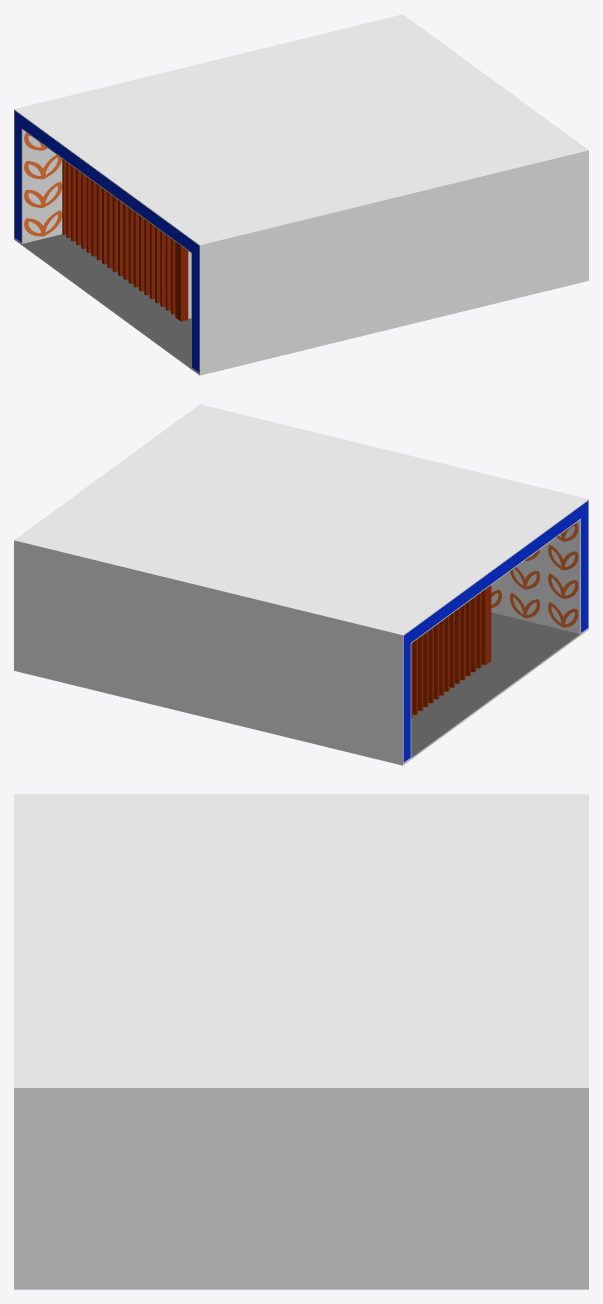
Rendered from Room01 - CFS.fbx.
The picture shows the model from 3 angles, top to bottom: view 1: azimuth 30°, elevation 25°; view 2: azimuth 150°, elevation 25°; view 3: azimuth 270°, elevation 25°; orthographic projection. The views are drawn at different scales.
Visible parts, largest first — view 1: CFS_Room01; view 2: CFS_Room01; view 3: CFS_Room01.
Boxes of the visible parts, x1,y1,x2,y2 form: CFS_Room01: [14, 14, 588, 375]; CFS_Room01: [14, 404, 588, 765]; CFS_Room01: [14, 794, 588, 1289].
Size of the model in its own units: 9719 by 3115 by 8044.
